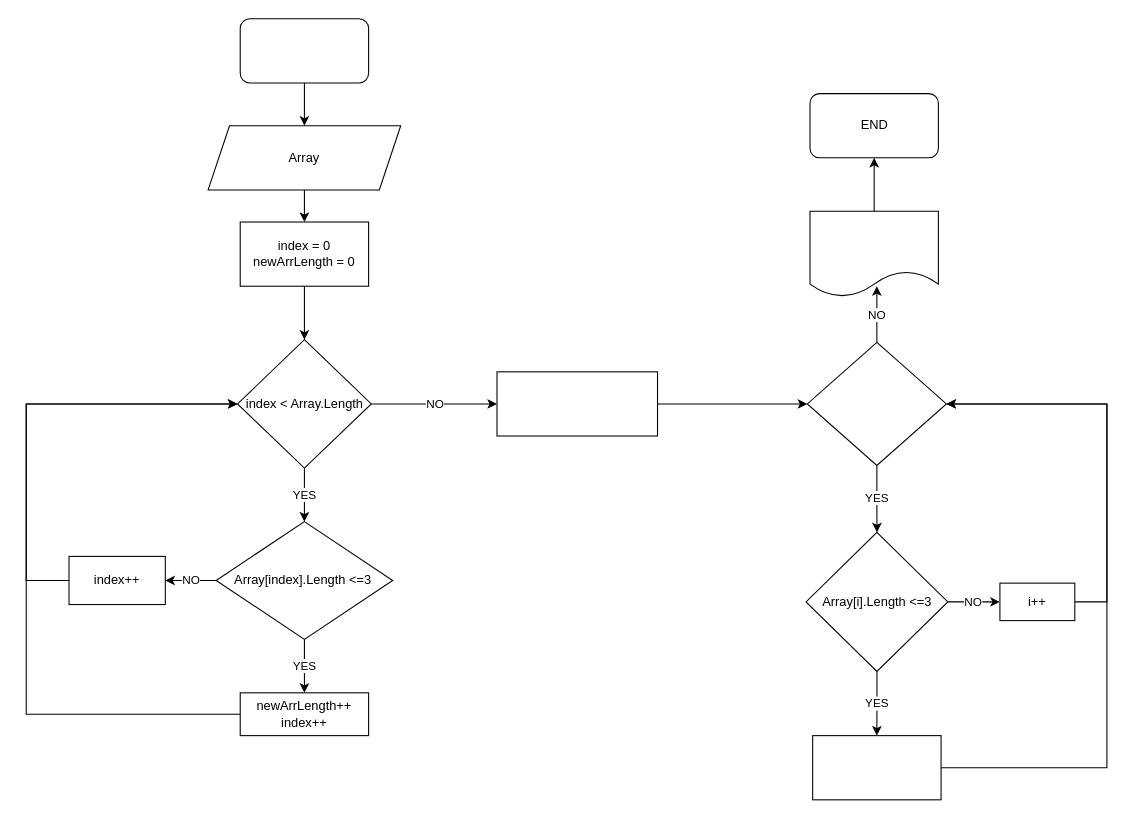
The diagram is 1134 pixels wide and 819 high, and some of its shapes have lost their labels. Here are the shapes that lost their labels. From the top down, the centre of each, then its label:
point 304,50: START
point 873,253: newArray
point 577,403: newArray[newArrLength] i = 0 j = 0
point 876,403: i < Array.Length
point 876,767: newArray[j]=Array[i] i++ j++
